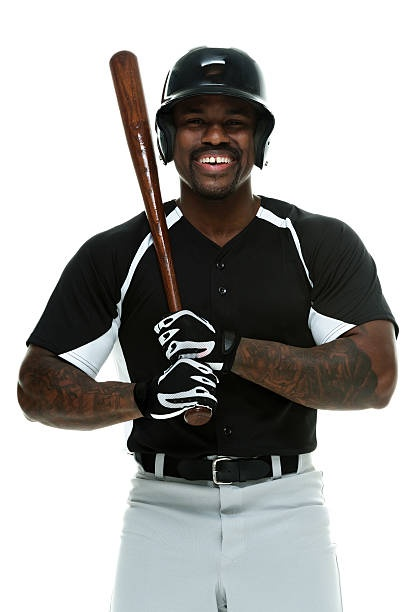bita: (104, 41, 204, 427)
